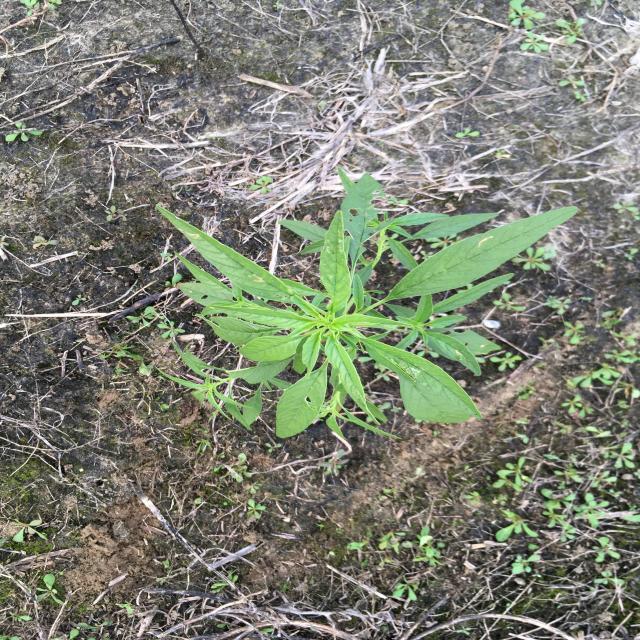Carpetweed: (488, 460, 626, 590), (552, 296, 637, 472), (506, 4, 588, 53)
Waterhemp: (154, 166, 580, 438)
